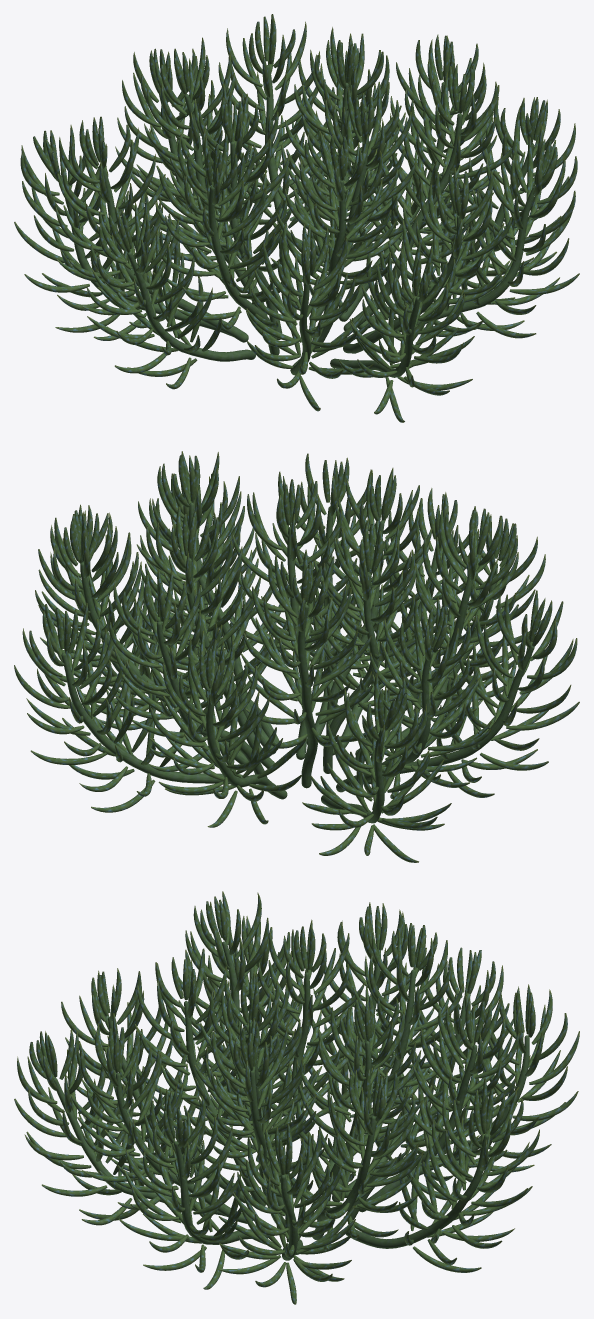
File: senecio_2.fbx
3 views of the same model, one above another, from view 1: azimuth 30°, elevation 25°; view 2: azimuth 150°, elevation 25°; view 3: azimuth 270°, elevation 25° (orthographic). The views are drawn at different scales.
Parts seen in each view (by area): view 1: Senecio_m__A002; view 2: Senecio_m__A002; view 3: Senecio_m__A002.
Boxes of the visible parts, <box> form: Senecio_m__A002: <box>14,14,579,422</box>; Senecio_m__A002: <box>14,451,579,862</box>; Senecio_m__A002: <box>14,891,579,1304</box>.
Size of the model in its own units: 517 by 267 by 513.
